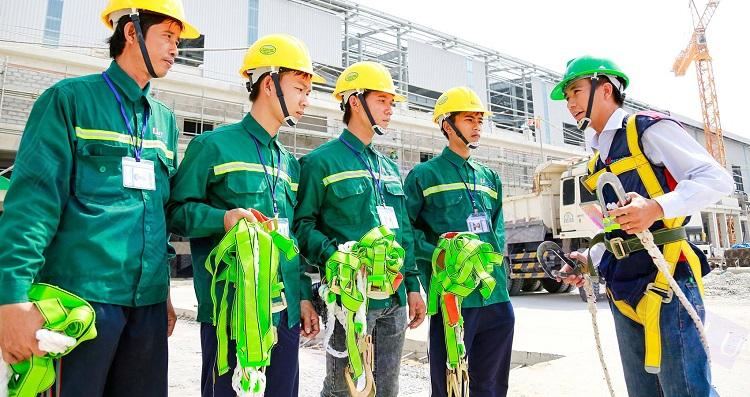Helmet: (238, 33, 326, 84), (100, 0, 200, 39), (550, 55, 629, 100), (332, 60, 407, 102), (432, 86, 495, 124)
Person: (0, 0, 199, 396), (549, 55, 735, 396), (165, 33, 322, 396), (292, 60, 427, 396), (402, 86, 515, 396)
Safety Vest: (583, 126, 698, 282), (0, 302, 62, 366)
bare-arms: (610, 189, 653, 238), (289, 296, 323, 341), (401, 290, 428, 330)
no-vest: (33, 87, 168, 292), (190, 144, 300, 311), (402, 157, 506, 292), (306, 154, 402, 286)
